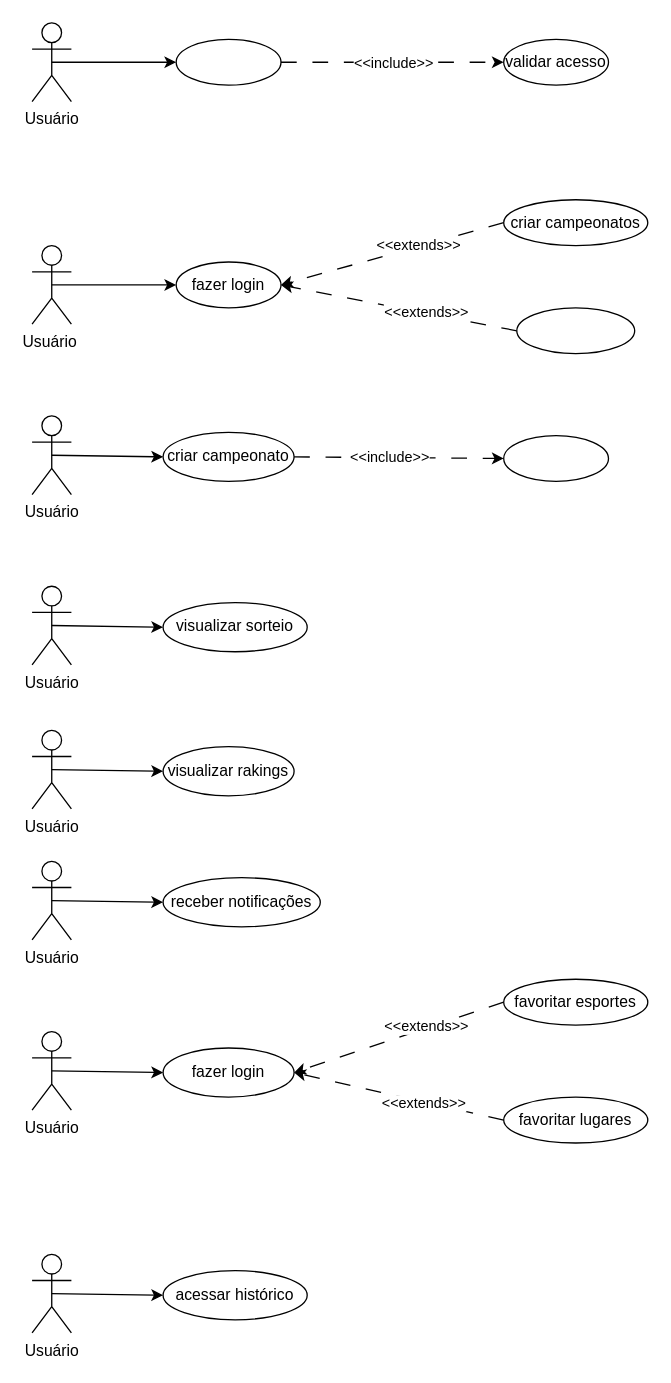
Image size: 671x1383. Some labels were removed from this diagram. The shapes that lost their labels are listed below. From the top down, each one's box as (x1, y1, x2, y2) in pixels, then its label:
(175, 38, 281, 85): realizar cadastro
(515, 307, 635, 354): criar partidas
(502, 434, 608, 481): escolher local
